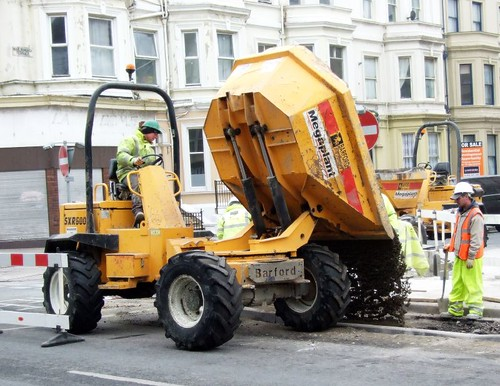person hardhat: (445, 181, 492, 329), (111, 120, 164, 227)
